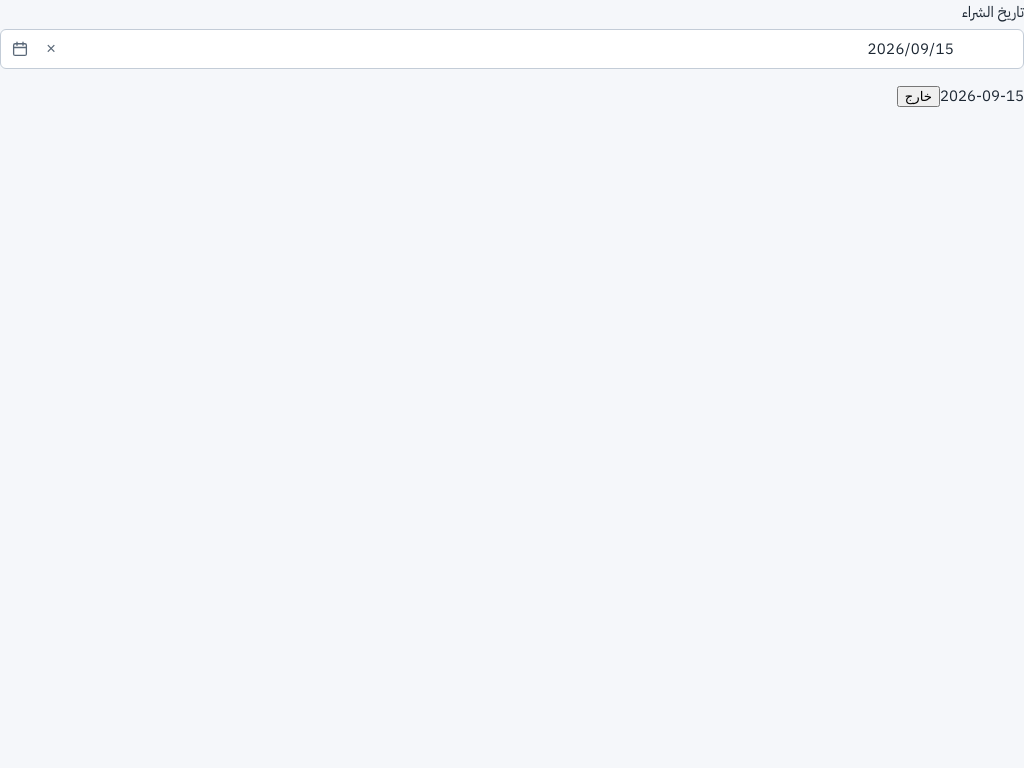
it: Date field › jumps by month and year for dates long ago
Click the button named "فتح التقويم": (20, 48) top-left (4, 34), bottom-right (34, 64)
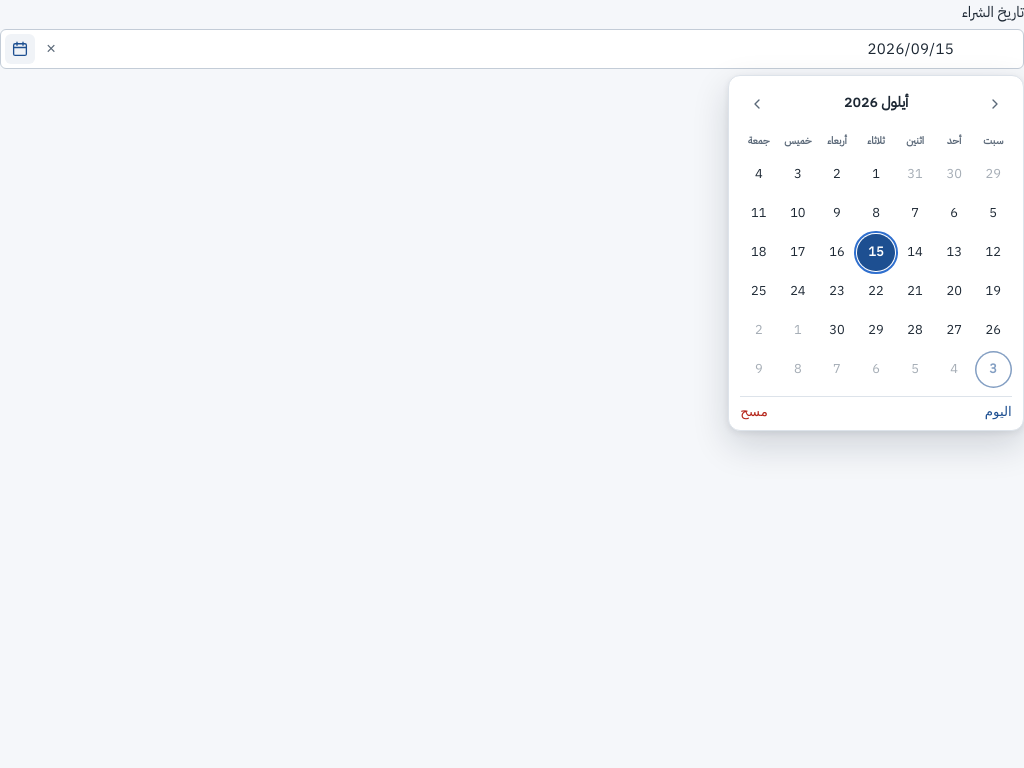
Click the button "أيلول 2026": (876, 104) top-left (778, 87), bottom-right (974, 121)
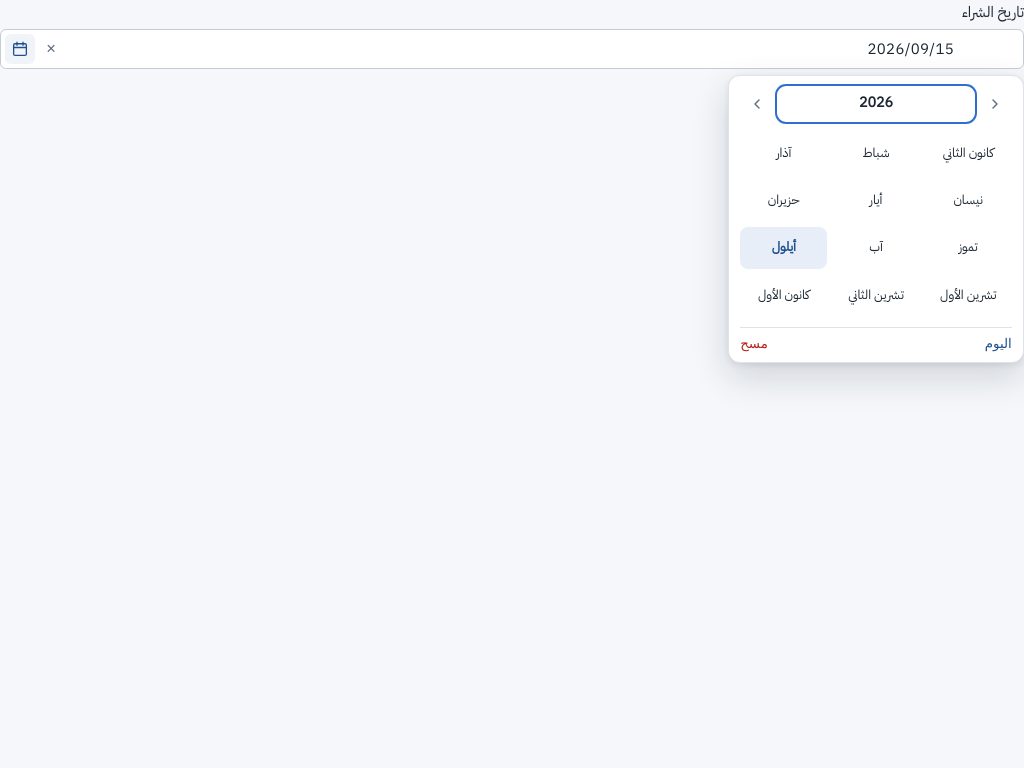
Click the button "2026": (876, 104) top-left (778, 87), bottom-right (974, 121)
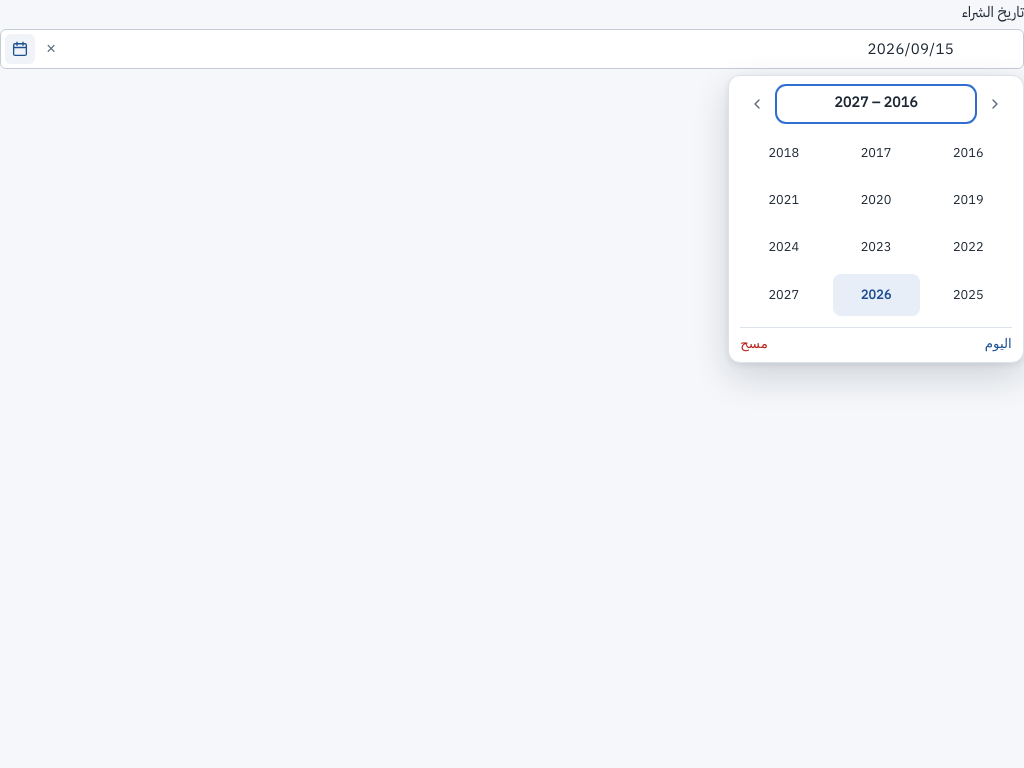
Click the option "2019": (968, 200) top-left (925, 179), bottom-right (1012, 221)
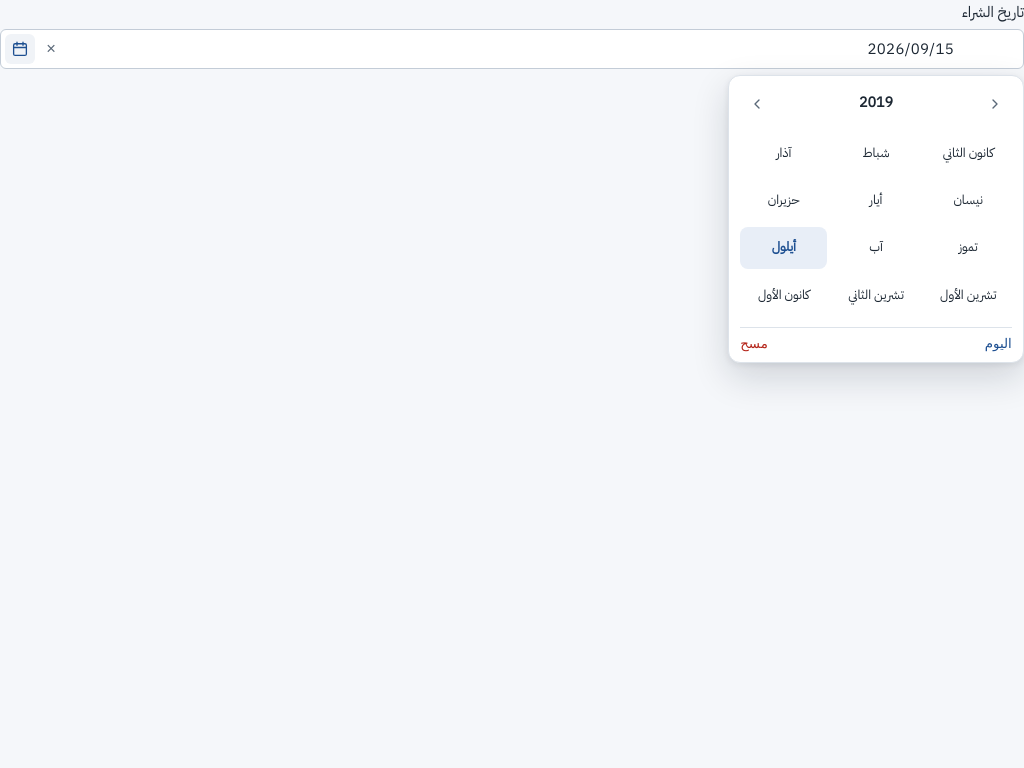
Click the option "آذار": (784, 153) top-left (740, 132), bottom-right (827, 174)
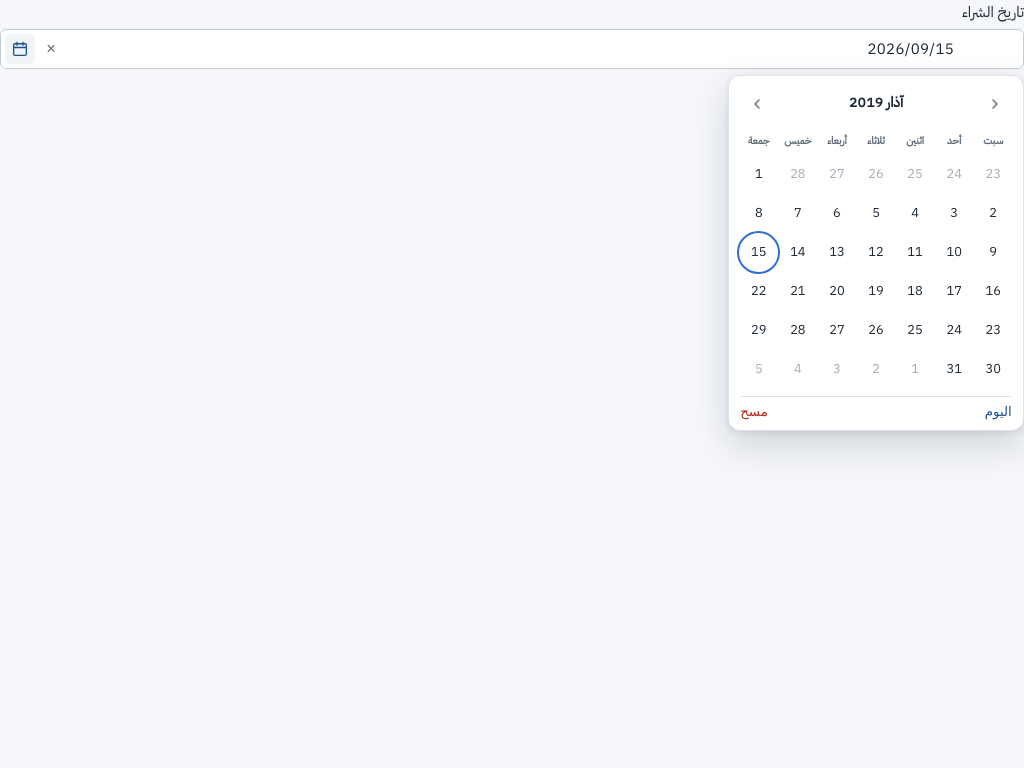
expect the button "آذار 2019" is shown: met, box top-left (778, 87), bottom-right (974, 121)
Click the button named "الأحد 10 آذار 2019": (954, 252) top-left (936, 234), bottom-right (973, 271)
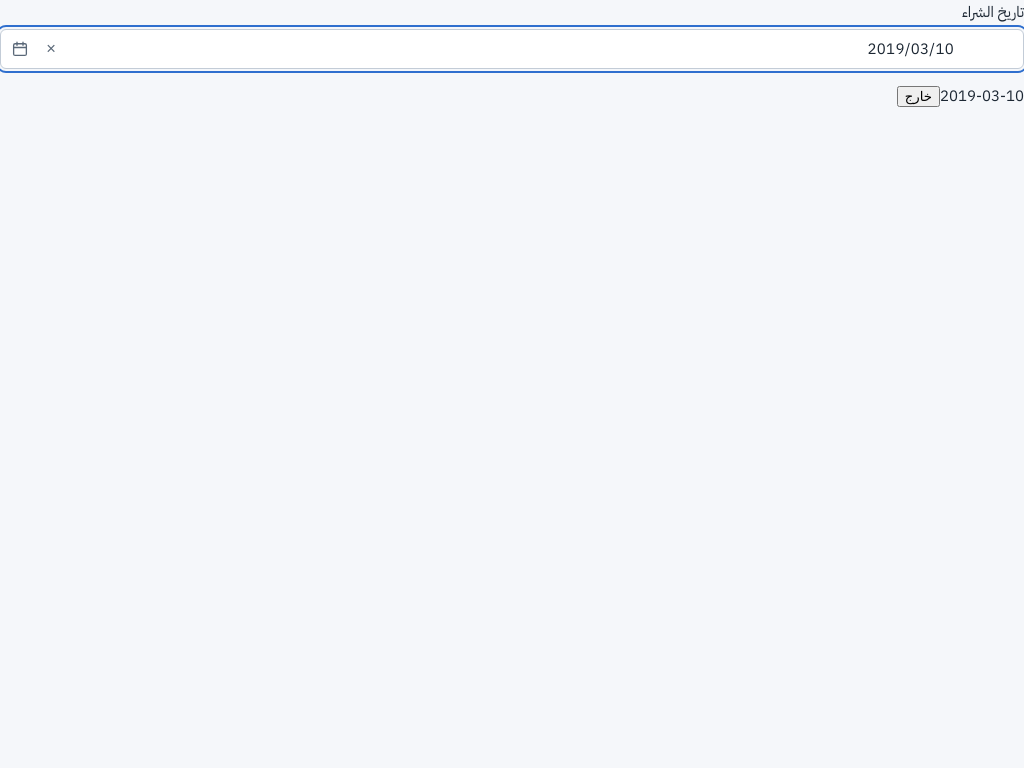
expect the text with test id "value" reads "2019-03-10": met, box top-left (940, 84), bottom-right (1023, 106)
